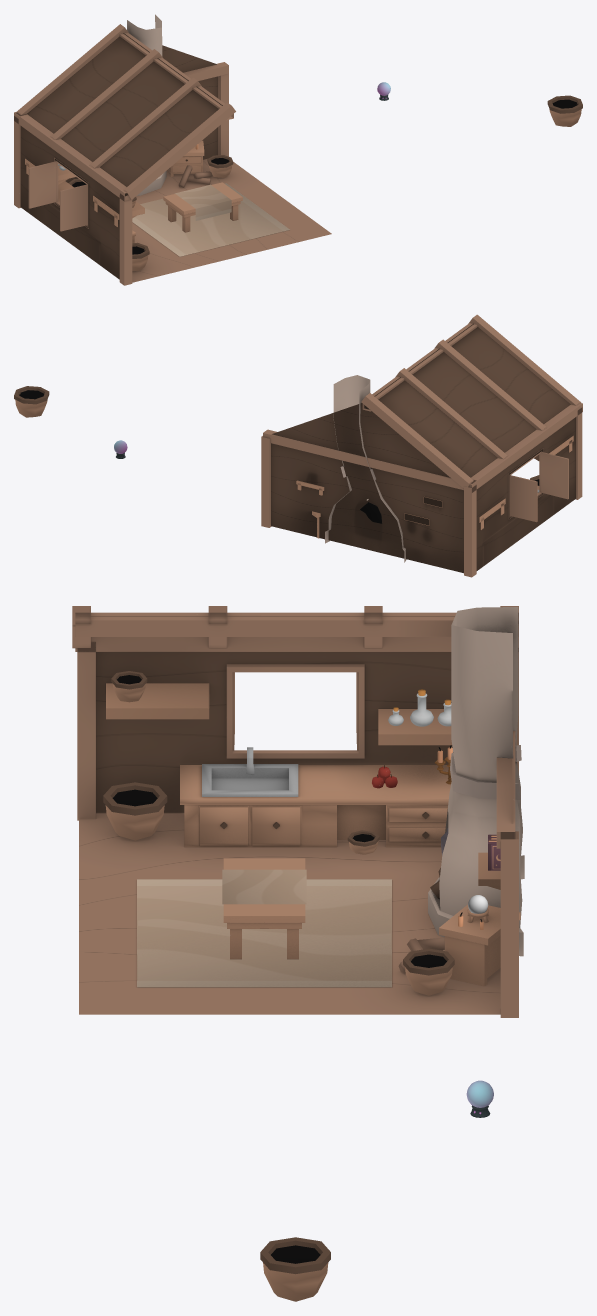
File: kitchen.glb
The picture shows the model from 3 angles, top to bottom: view 1: azimuth 30°, elevation 25°; view 2: azimuth 150°, elevation 25°; view 3: azimuth 270°, elevation 25°; orthographic projection. The views are drawn at different scales.
Visible parts, largest first — view 1: Cube.026, Plane.006, Cube.032, Chimenea, Maceta, Cube.033, Maceta.001, Chimenea.001, Maceta.004, Cube.028; view 2: Cube.026, Chimenea, Maceta; view 3: Cube.026, Plane.006, Cube.025, Chimenea, Cube.032, Cube.033, Maceta, Cube.028, Maceta.004, Cube.029, Maceta.001, Maceta.006.
Boxes of the visible parts, bbox=[...] form: Cube.026: bbox=[14, 24, 331, 285]; Plane.006: bbox=[132, 183, 289, 256]; Cube.032: bbox=[163, 182, 242, 232]; Chimenea: bbox=[127, 14, 166, 195]; Maceta: bbox=[547, 95, 582, 126]; Cube.033: bbox=[169, 140, 204, 176]; Maceta.001: bbox=[207, 155, 233, 177]; Chimenea.001: bbox=[178, 165, 212, 187]; Maceta.004: bbox=[132, 242, 149, 271]; Cube.028: bbox=[93, 195, 144, 226]; Cube.026: bbox=[261, 314, 582, 577]; Chimenea: bbox=[325, 375, 406, 562]; Maceta: bbox=[14, 386, 49, 417]; Cube.026: bbox=[72, 606, 518, 1017]; Plane.006: bbox=[137, 879, 391, 987]; Cube.025: bbox=[180, 747, 450, 847]; Chimenea: bbox=[428, 607, 524, 956]; Cube.032: bbox=[222, 858, 306, 959]; Cube.033: bbox=[439, 904, 520, 986]; Maceta: bbox=[260, 1237, 330, 1301]; Cube.028: bbox=[106, 683, 209, 719]; Maceta.004: bbox=[103, 782, 167, 840]; Cube.029: bbox=[378, 709, 451, 745]; Maceta.001: bbox=[403, 948, 454, 995]; Maceta.006: bbox=[111, 671, 147, 702].
Size of the model in its own units: 19.08 by 5.49 by 6.97.
21 materials, 19 textured.
